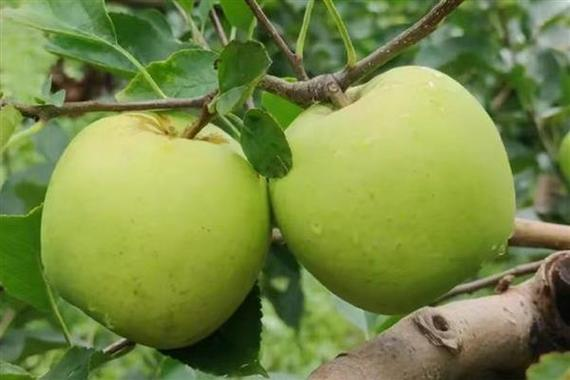unripe: (266, 55, 530, 317), (28, 91, 273, 358)
